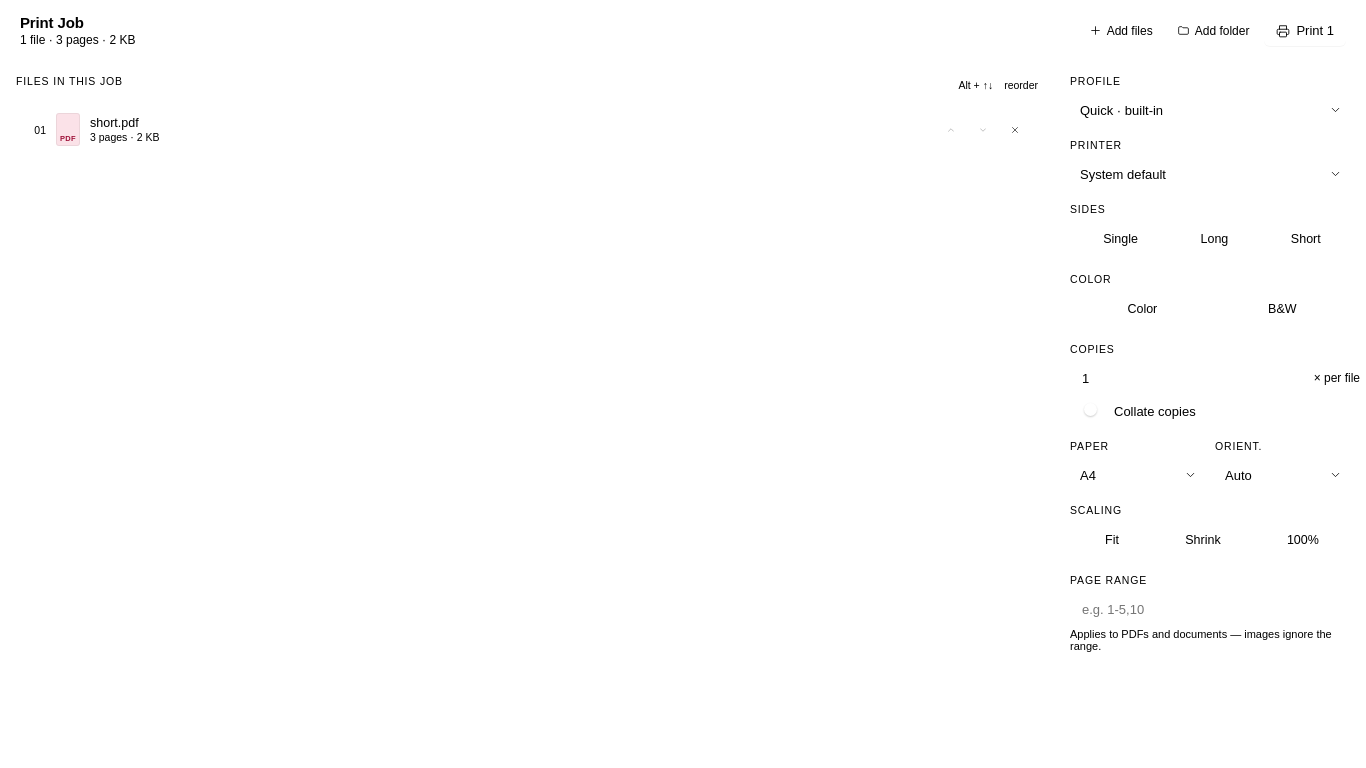
Test: PrintJobScreen › FR-042: flags a range that runs past the document and blocks Print
The width and height of the screenshot is (1366, 768).
Type "2-9" into the field with placeholder "e.g. 1-5,10" at coordinates (1220, 609), box [1080,593,1360,625]
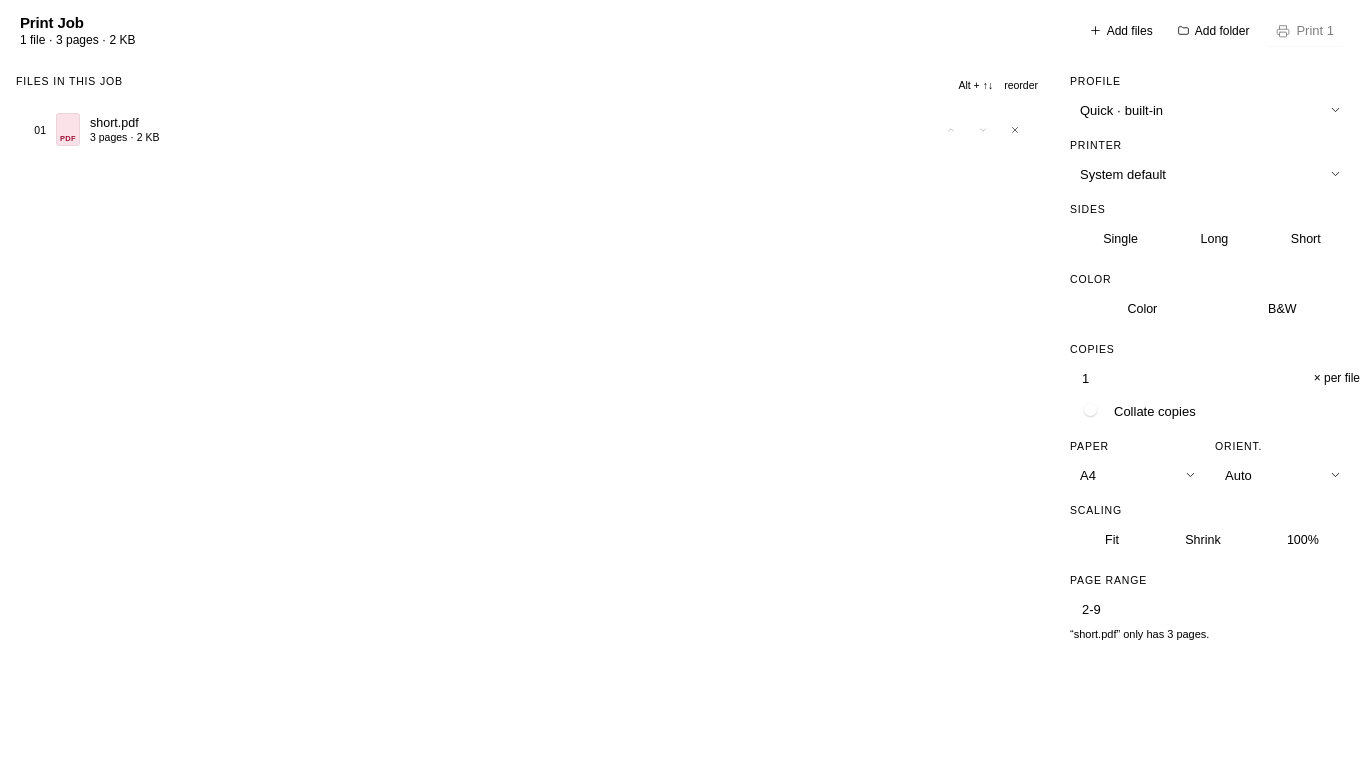
Check: the message reads "“short.pdf” only has 3 pages.", box [1070,628,1209,640]
Check: the button "Print 1" is disabled, box [1264,16,1346,46]
Replace the text in the field with placeholder "e.g. 1-5,10" with "2-3" at coordinates (1220, 609), box [1080,593,1360,625]
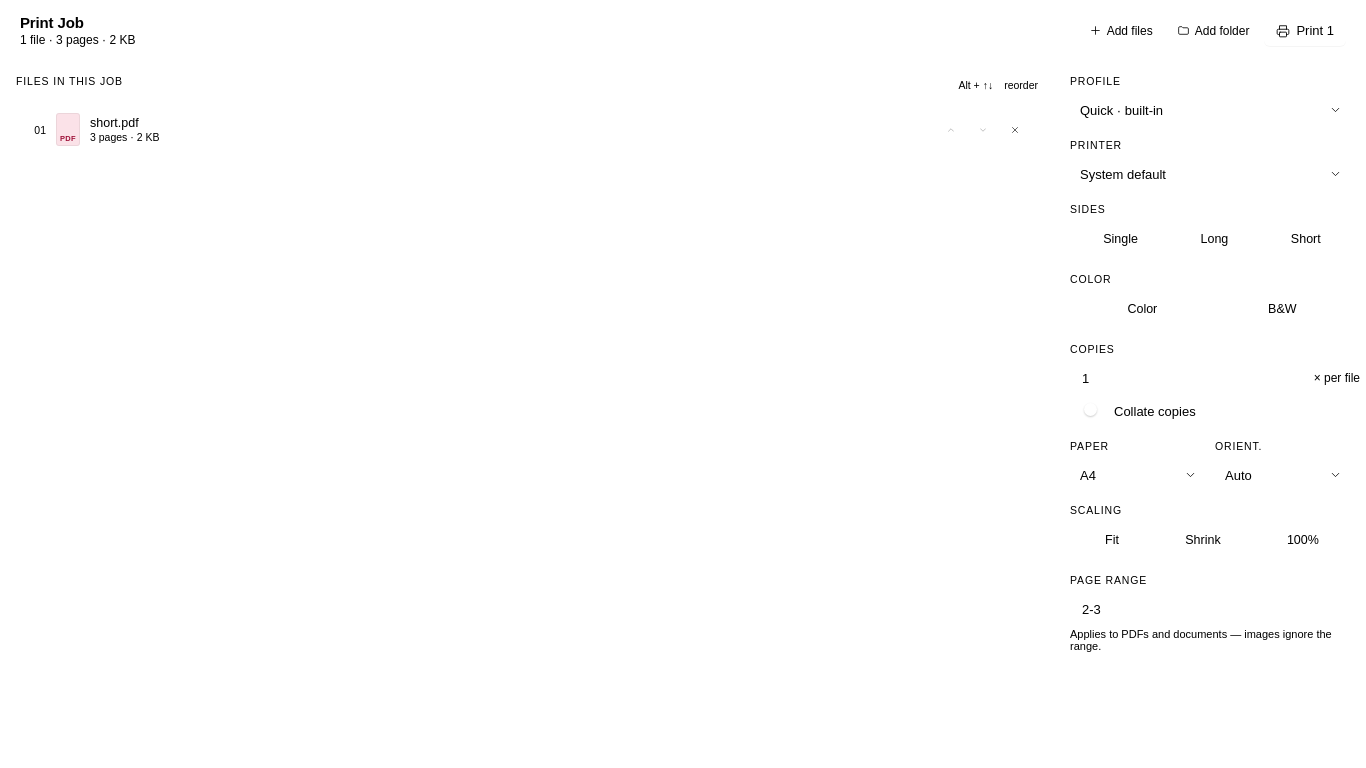
Check: the button "Print 1" is enabled, box [1264,16,1346,46]
